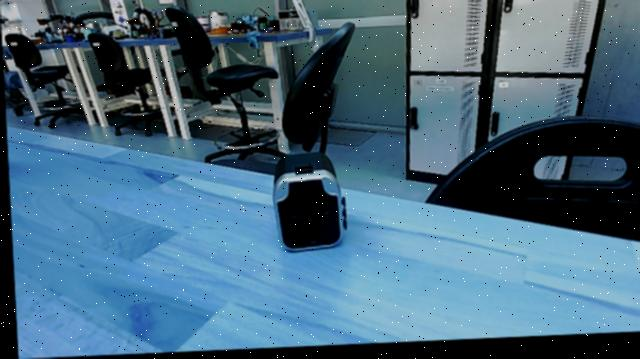adapter: (264, 149, 350, 256)
